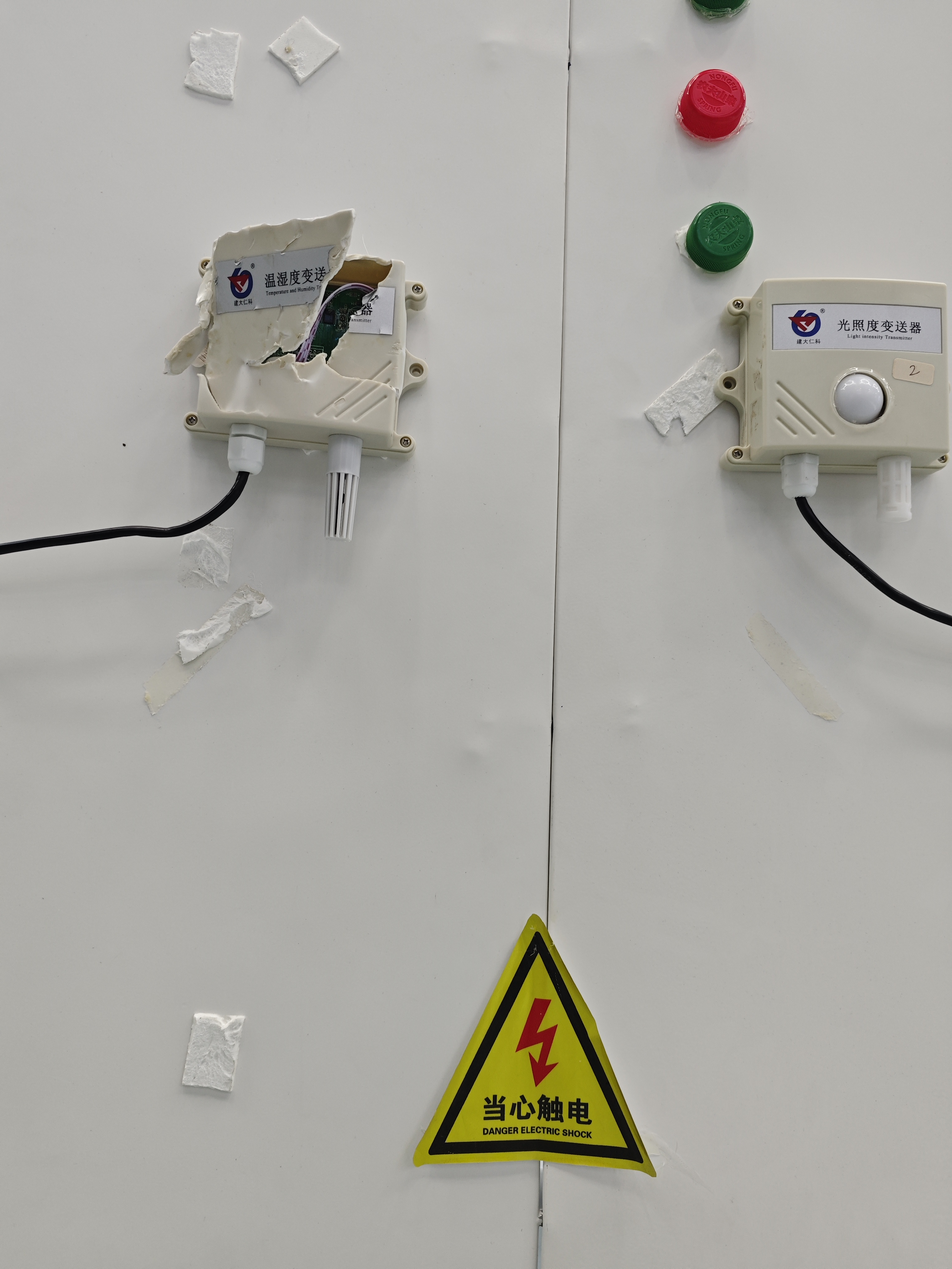red_warning: (667, 41, 755, 149)
sensor_damage: (139, 187, 453, 569)
